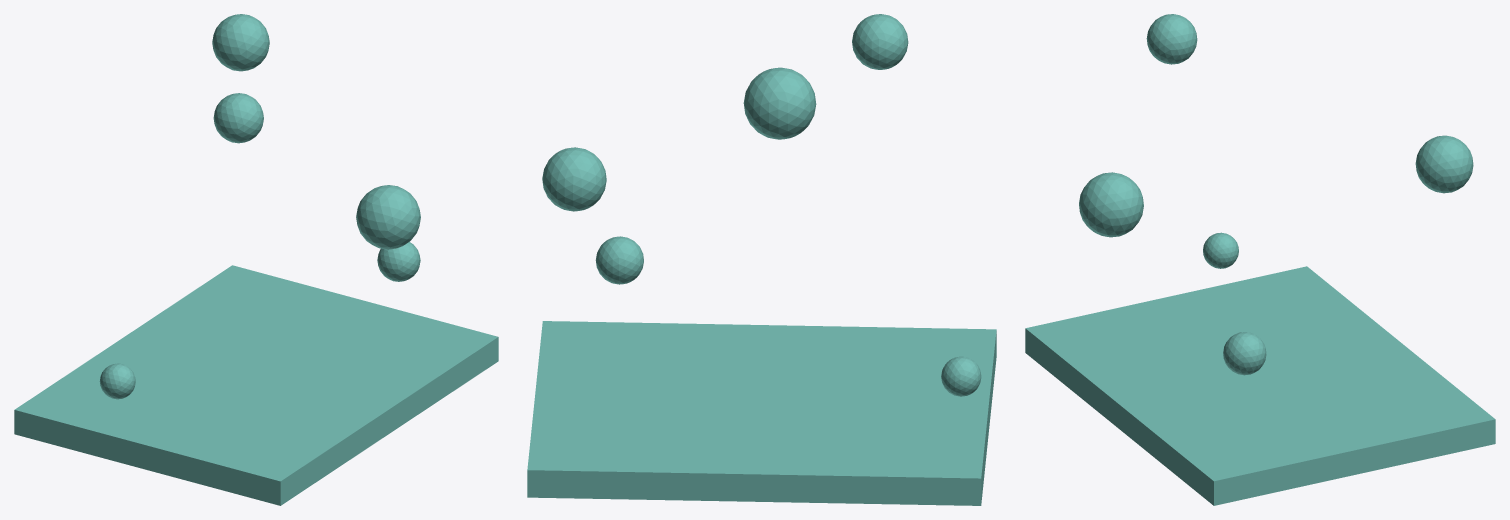
File: fixed-fiducials.glb
3 views of the same model, side by side, from view 1: azimuth 30°, elevation 25°; view 2: azimuth 150°, elevation 25°; view 3: azimuth 270°, elevation 25° (orthographic). The views are drawn at different scales.
Parts seen in each view (by area): view 1: fixed-fiducials; view 2: fixed-fiducials; view 3: fixed-fiducials.
Boxes of the visible parts, x1=… form: fixed-fiducials: x1=14, y1=14, x2=498, y2=505; fixed-fiducials: x1=527, y1=14, x2=996, y2=505; fixed-fiducials: x1=1025, y1=14, x2=1495, y2=505.
Size of the model in its own units: 0.1122 by 0.0856 by 0.1036.
